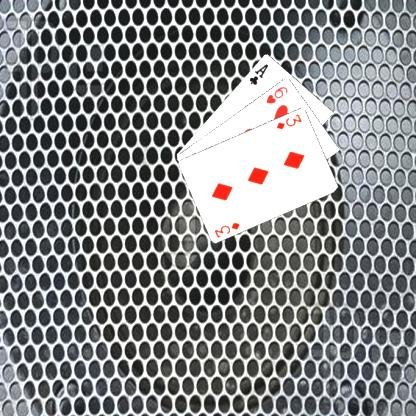3D: (273, 111, 303, 131), (212, 219, 242, 239)
6H: (264, 83, 289, 105)
AC: (247, 61, 270, 86)
